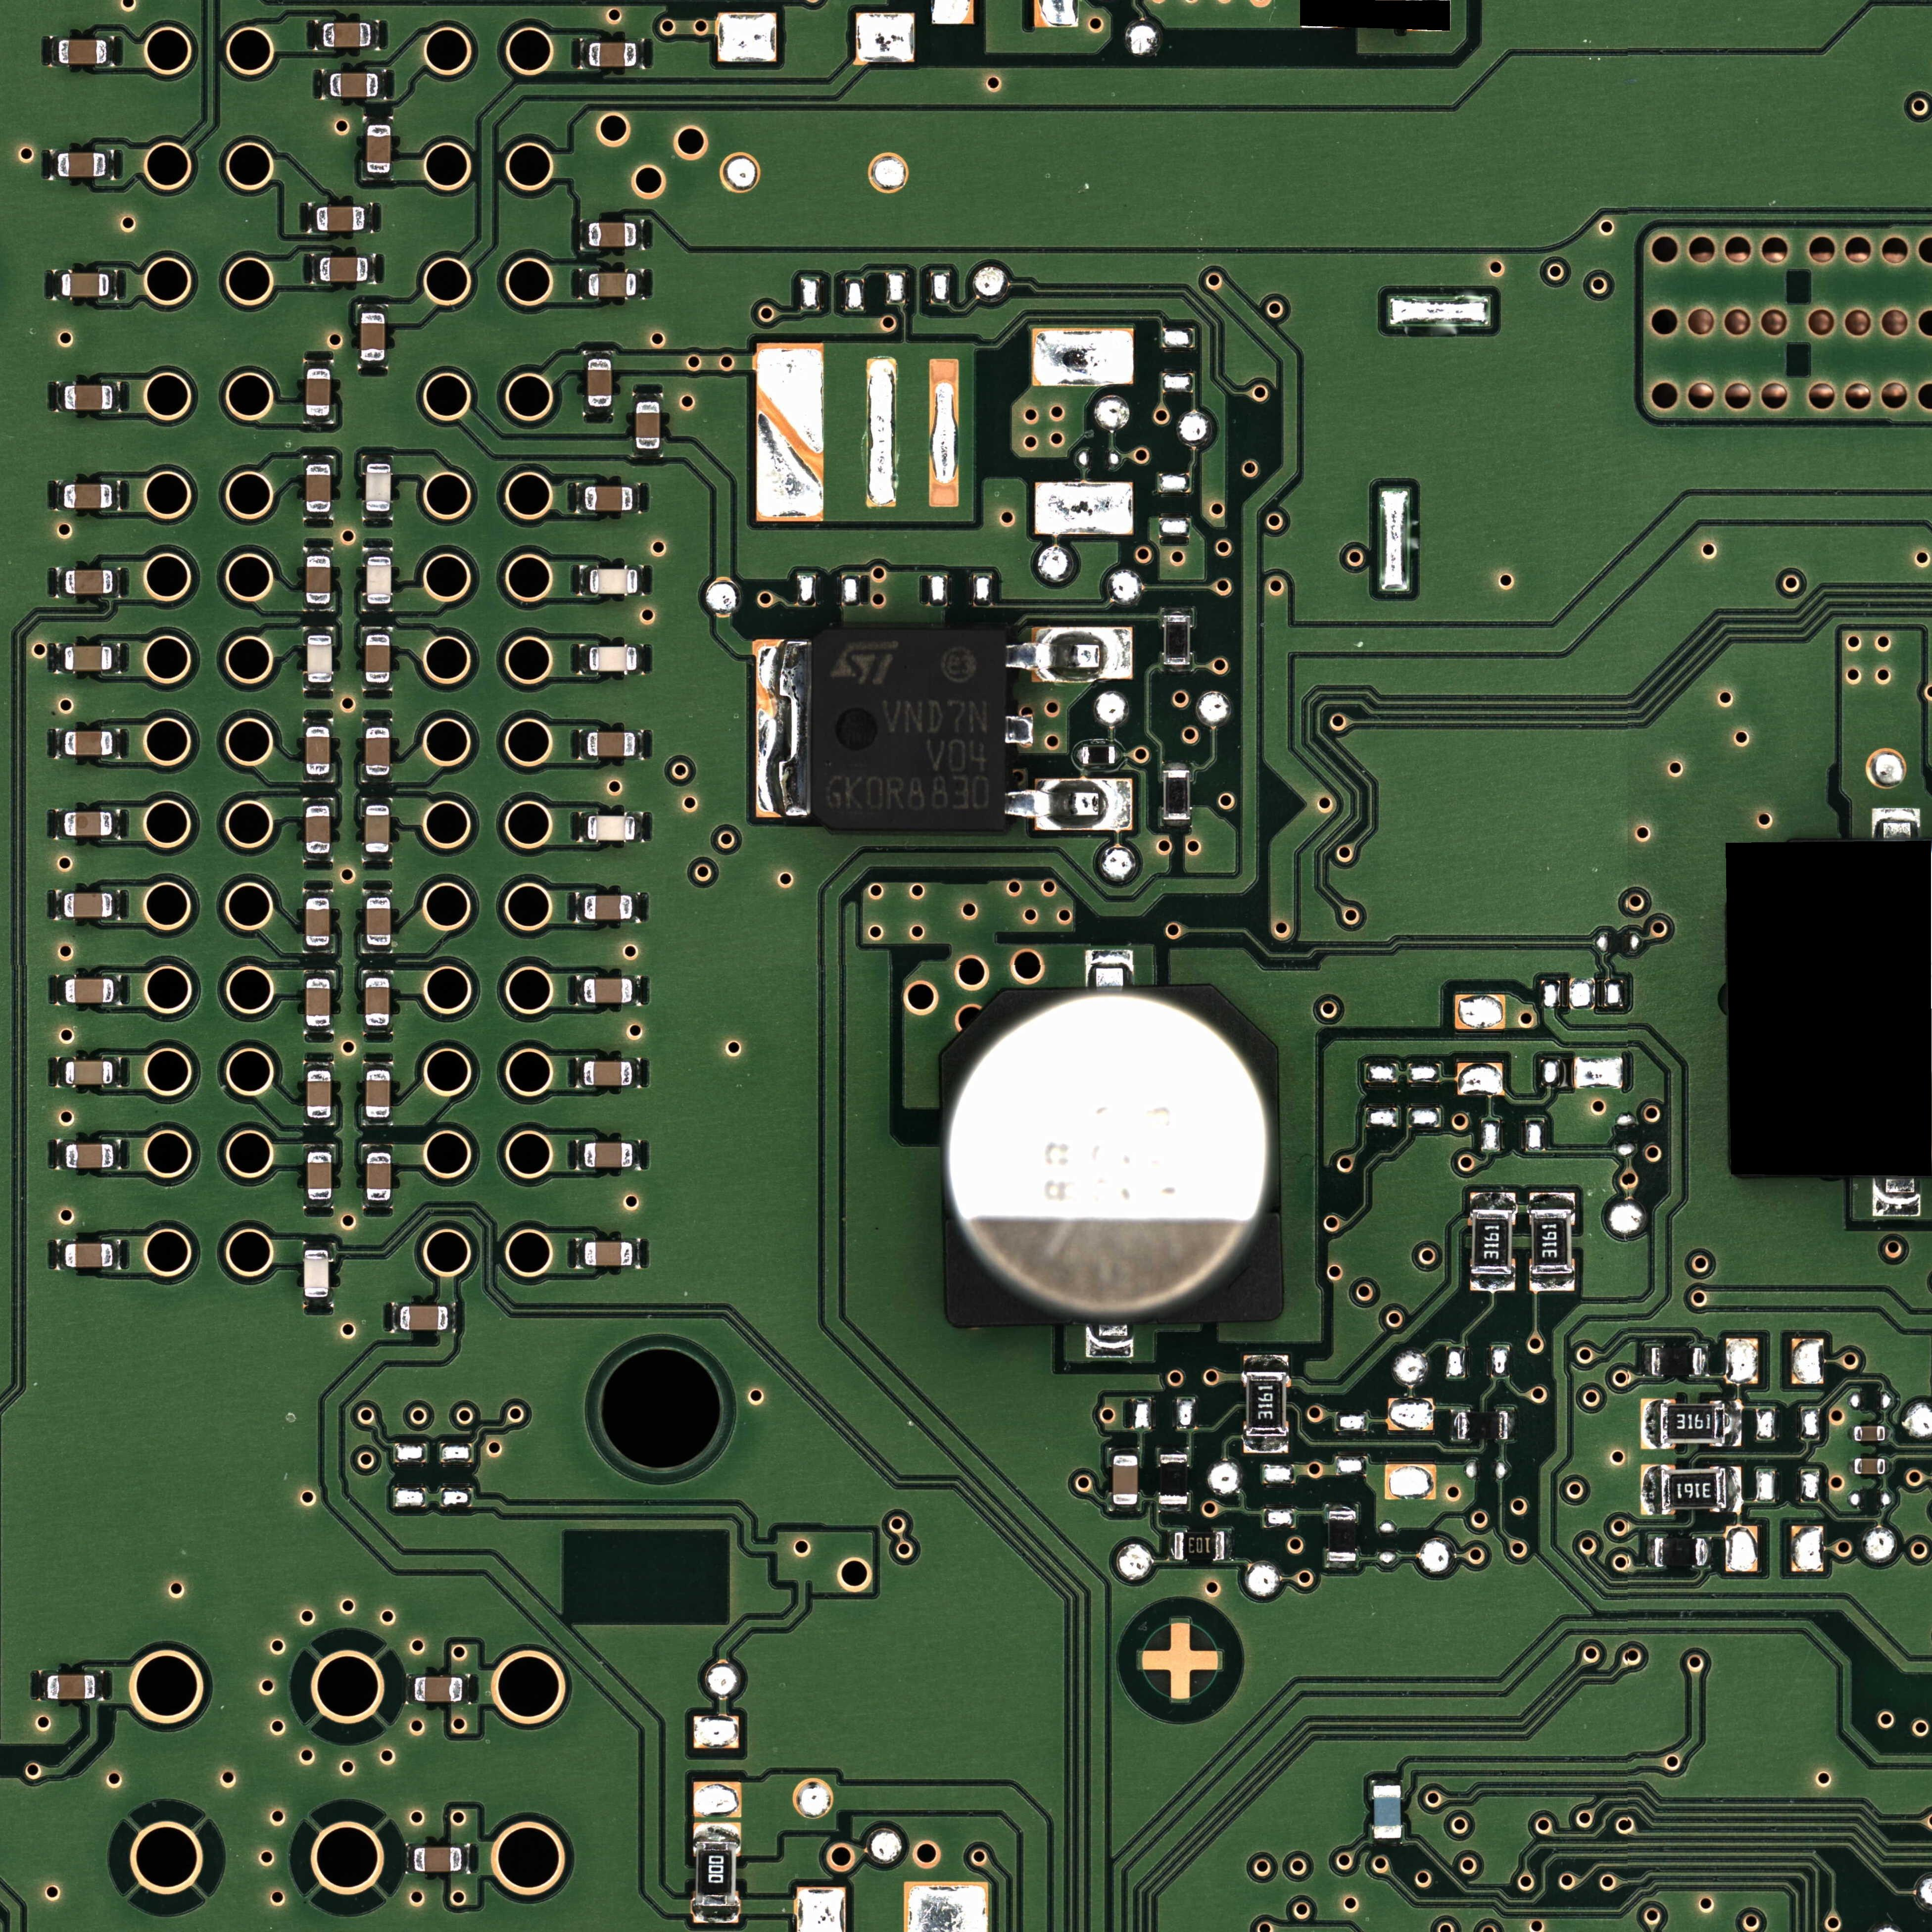Package: (940, 989, 1278, 1324), (810, 628, 1007, 830), (1660, 1468, 1726, 1510), (695, 1841, 737, 1906), (1531, 1209, 1573, 1274), (1660, 1403, 1725, 1444), (1471, 1209, 1512, 1274), (1246, 1372, 1287, 1436), (1373, 1785, 1401, 1838), (1655, 1538, 1706, 1566), (1651, 1347, 1702, 1376), (1159, 1454, 1188, 1504), (1328, 1511, 1356, 1560), (1458, 1412, 1508, 1440), (1174, 1532, 1225, 1559), (1112, 1455, 1138, 1504), (64, 893, 113, 918), (589, 569, 637, 594), (1164, 615, 1189, 665), (64, 385, 113, 410), (584, 895, 632, 920), (323, 23, 371, 48), (587, 732, 635, 757), (583, 1061, 632, 1086), (65, 978, 114, 1004), (1164, 771, 1189, 820), (588, 222, 636, 247), (64, 646, 112, 671), (64, 483, 112, 509), (306, 556, 331, 604), (400, 1305, 448, 1331), (414, 1847, 462, 1872), (584, 978, 632, 1004), (584, 1143, 632, 1168), (330, 73, 378, 97), (320, 257, 368, 282), (316, 206, 365, 231), (584, 486, 633, 511), (47, 1675, 96, 1699), (589, 646, 637, 672), (587, 816, 635, 841), (306, 464, 331, 512), (366, 557, 391, 604), (305, 806, 331, 853), (415, 1677, 462, 1702), (58, 40, 106, 64), (57, 152, 105, 177), (588, 42, 636, 67), (64, 812, 112, 836), (64, 731, 112, 756), (366, 125, 391, 173), (584, 1242, 632, 1266), (66, 1144, 114, 1168), (65, 570, 113, 594), (366, 898, 391, 945), (365, 635, 390, 682), (365, 805, 389, 853), (305, 726, 330, 774), (305, 898, 330, 946), (360, 313, 385, 360), (365, 727, 390, 775), (306, 978, 331, 1026), (588, 273, 636, 297), (307, 635, 332, 682), (366, 464, 390, 511), (306, 369, 331, 416), (307, 1152, 332, 1199), (65, 1243, 112, 1268), (366, 1070, 390, 1117), (366, 1153, 391, 1200), (304, 1250, 329, 1297), (587, 359, 612, 406), (635, 401, 660, 449), (61, 273, 108, 297), (65, 1061, 113, 1085), (365, 978, 389, 1025), (307, 1070, 331, 1117), (1082, 746, 1115, 765), (1854, 1458, 1885, 1474), (1854, 1425, 1885, 1441)
Solder: (756, 639, 810, 818), (1008, 627, 1131, 682), (1007, 777, 1131, 830), (1873, 1179, 1921, 1215), (1085, 951, 1133, 986), (1086, 1324, 1134, 1358), (1872, 809, 1921, 837), (1642, 1464, 1660, 1515), (1642, 1399, 1659, 1449), (694, 1823, 740, 1841), (1470, 1192, 1516, 1209), (693, 1906, 739, 1923), (1243, 1354, 1289, 1371), (1530, 1274, 1575, 1291), (1529, 1193, 1575, 1209), (1726, 1400, 1741, 1447), (1470, 1274, 1515, 1291), (1243, 1437, 1288, 1453), (1006, 717, 1032, 743), (1727, 1466, 1742, 1512), (303, 455, 335, 464), (303, 1298, 333, 1307), (303, 969, 335, 979), (52, 269, 61, 300), (303, 626, 334, 635), (580, 39, 589, 68), (362, 512, 393, 521), (362, 455, 393, 464), (362, 853, 392, 862), (38, 1670, 47, 1701), (1162, 606, 1193, 615), (1507, 1408, 1516, 1441), (314, 20, 323, 49), (302, 889, 333, 898), (304, 1062, 334, 1070), (580, 565, 589, 595), (361, 945, 392, 954), (321, 69, 330, 99), (580, 644, 589, 674), (1161, 761, 1191, 770), (1325, 1561, 1358, 1569), (57, 1139, 65, 1170), (575, 892, 583, 923), (1326, 1502, 1357, 1510), (304, 359, 333, 368), (311, 253, 320, 284), (302, 797, 333, 806), (303, 683, 334, 691), (56, 728, 64, 759), (303, 1026, 334, 1035), (580, 220, 588, 250), (371, 21, 380, 49), (378, 70, 386, 98), (1109, 1504, 1141, 1512), (1644, 1345, 1652, 1377), (308, 203, 316, 233), (358, 361, 388, 370), (362, 626, 392, 634), (363, 548, 393, 556), (303, 854, 333, 862), (303, 513, 334, 521), (363, 1144, 393, 1153), (363, 969, 393, 978), (633, 393, 663, 401), (302, 946, 334, 954), (1225, 1529, 1233, 1560), (1158, 1504, 1189, 1512), (358, 304, 387, 313), (56, 568, 65, 597), (363, 1026, 392, 1035), (580, 269, 588, 299), (632, 893, 641, 922), (1702, 1344, 1709, 1378), (303, 416, 334, 424), (362, 604, 393, 612), (303, 604, 334, 612), (632, 449, 663, 457), (1646, 1536, 1654, 1567), (303, 547, 333, 556), (112, 481, 121, 510), (304, 1200, 334, 1208), (576, 483, 584, 512), (362, 173, 393, 181), (106, 150, 114, 181), (56, 1239, 64, 1270), (577, 1238, 584, 1269), (632, 976, 641, 1005), (56, 382, 64, 412), (109, 270, 117, 300), (362, 797, 392, 805), (303, 719, 333, 726), (55, 890, 63, 920), (362, 683, 392, 691), (56, 809, 64, 839), (363, 1062, 393, 1070), (304, 1144, 334, 1152), (57, 1057, 65, 1087), (363, 1201, 393, 1209), (406, 1674, 414, 1704), (406, 1844, 414, 1874), (635, 812, 643, 842), (50, 37, 58, 66), (112, 643, 120, 673), (57, 975, 65, 1005), (95, 1671, 103, 1700), (583, 407, 613, 415), (632, 1059, 640, 1088), (632, 1141, 640, 1170), (1162, 665, 1192, 673), (1159, 1447, 1188, 1455), (303, 774, 334, 782), (1109, 1448, 1140, 1455), (1167, 1530, 1174, 1561), (1450, 1410, 1458, 1441), (1705, 1537, 1712, 1568), (365, 203, 373, 233), (363, 719, 392, 727), (56, 644, 64, 673), (363, 889, 392, 897), (392, 1303, 400, 1332), (583, 350, 613, 358), (113, 382, 120, 412), (361, 775, 392, 783), (362, 1118, 392, 1125), (577, 1140, 584, 1170), (1162, 820, 1191, 828), (50, 150, 57, 180), (448, 1303, 456, 1333), (303, 1243, 333, 1250), (304, 1118, 334, 1125), (462, 1674, 470, 1704), (462, 1844, 470, 1874), (636, 269, 643, 299), (632, 1239, 640, 1269), (368, 254, 376, 284), (112, 890, 120, 919), (113, 1240, 120, 1270), (113, 1140, 121, 1169), (580, 812, 587, 842), (580, 729, 587, 759), (106, 37, 114, 66), (112, 568, 120, 597), (112, 810, 120, 839), (635, 730, 643, 760), (636, 219, 643, 250), (364, 117, 392, 124), (56, 481, 64, 510), (113, 975, 121, 1004), (636, 40, 644, 69), (113, 1058, 120, 1086), (113, 728, 120, 759), (577, 1058, 583, 1088), (632, 484, 639, 513), (1372, 1779, 1402, 1786), (1372, 1838, 1402, 1845), (577, 976, 583, 1005), (637, 644, 643, 675), (637, 566, 643, 596), (1115, 746, 1122, 764), (1075, 746, 1082, 764), (1885, 1458, 1893, 1475), (1846, 1426, 1854, 1442), (1847, 1458, 1854, 1475), (1885, 1426, 1893, 1442)
